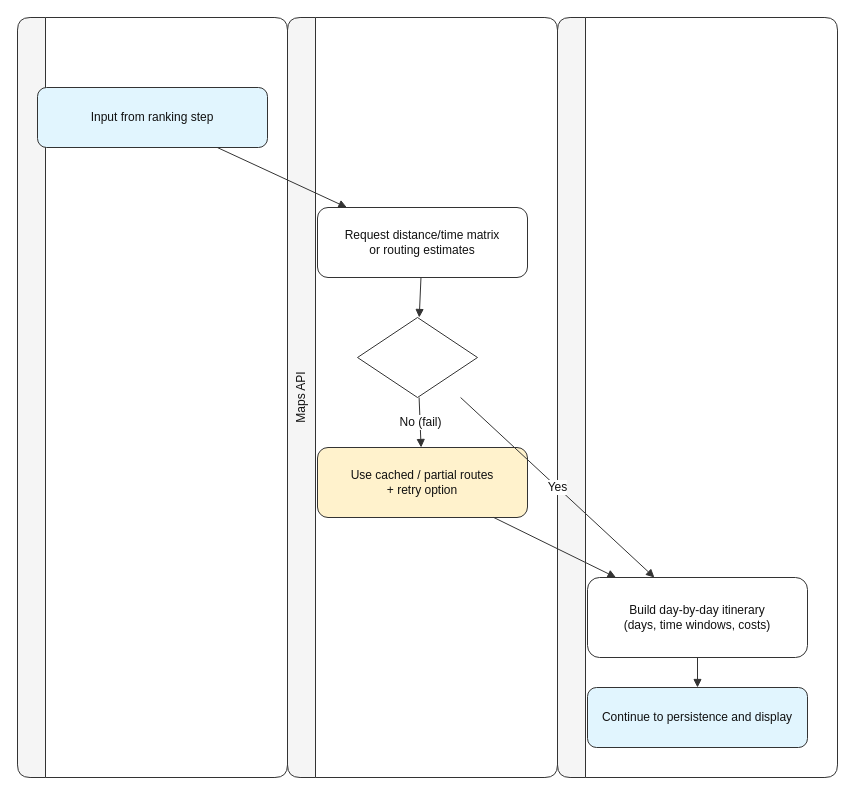
Image size: 855x795. Some labels were removed from this diagram. Each missing label, with the box of its shape:
AI Engine: (16, 16, 288, 778)
Backend / API: (556, 16, 838, 778)
Maps reachable?: (356, 316, 478, 398)
